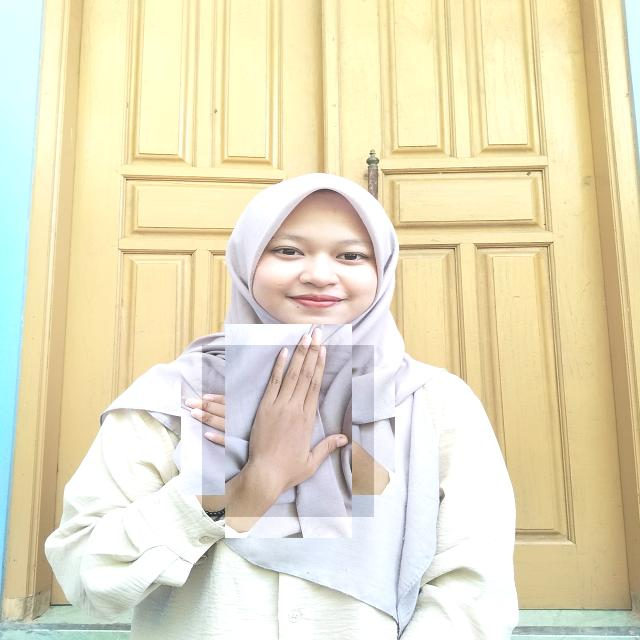tolong: (202, 345, 374, 517)
